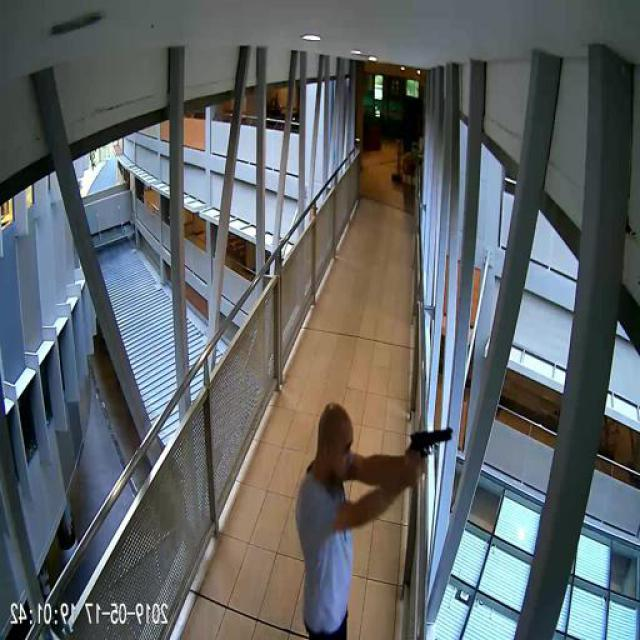Gun: (402, 420, 456, 488)
